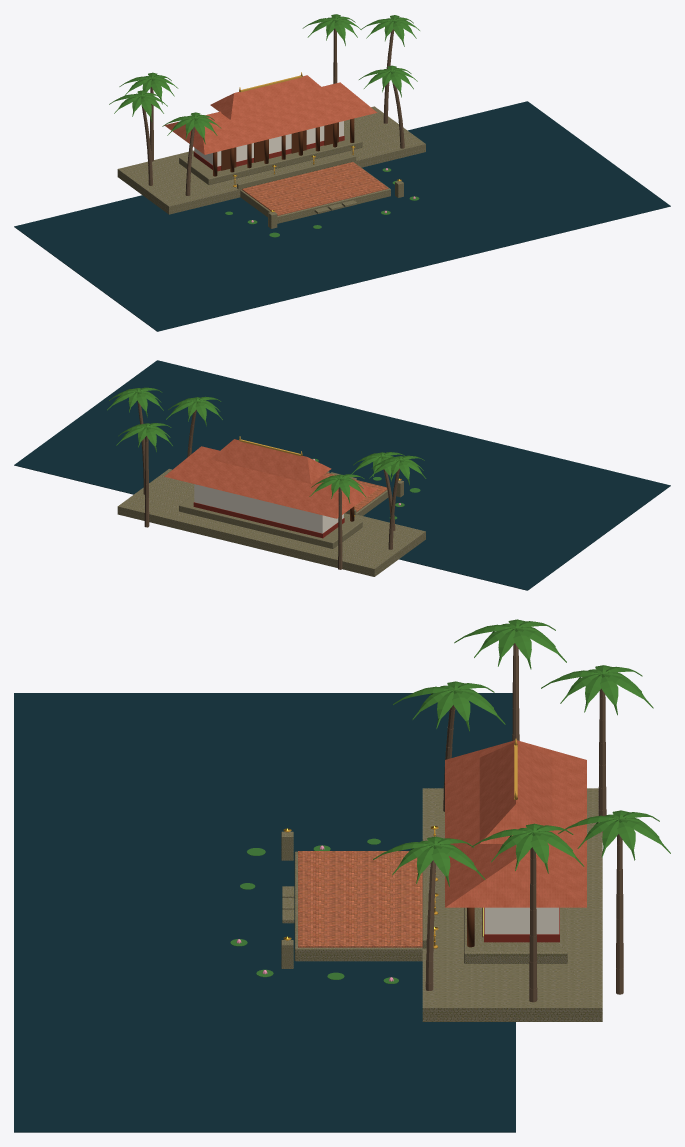
The model's file is courtyard.glb.
The picture shows the model from 3 angles, top to bottom: view 1: azimuth 30°, elevation 25°; view 2: azimuth 150°, elevation 25°; view 3: azimuth 270°, elevation 25°; orthographic projection. The views are drawn at different scales.
Parts seen in each view (by area): view 1: pond, terrace, roof1, floor, roof2, plinth, floor_rim, hall, palm1, palm3, palm0, palm2 (+3 smaller); view 2: pond, terrace, roof1, hall, roof2, plinth, palm5, palm4, palm1, palm3, palm2, hall_band (+2 smaller); view 3: pond, terrace, roof1, floor, roof2, palm5, palm3, palm2, palm4, plinth, palm1, floor_rim (+2 smaller).
Part boxes in pixels (box(x1,y1,x2,y2)): pond: box(14, 101, 670, 331); terrace: box(117, 106, 425, 214); roof1: box(164, 82, 377, 154); floor: box(242, 162, 388, 215); roof2: box(210, 75, 331, 119); plinth: box(179, 128, 362, 184); floor_rim: box(240, 162, 390, 223); hall: box(194, 121, 343, 166); palm1: box(109, 90, 167, 185); palm3: box(361, 15, 419, 123); palm0: box(162, 112, 221, 195); palm2: box(359, 65, 417, 148); pond: box(14, 360, 670, 590); terrace: box(117, 469, 425, 576); roof1: box(164, 446, 376, 518); hall: box(194, 484, 343, 533); roof2: box(210, 439, 331, 483); plinth: box(179, 495, 362, 548); palm5: box(116, 423, 172, 527); palm4: box(309, 474, 366, 569); palm1: box(369, 455, 426, 549); palm3: box(107, 387, 163, 494); palm2: box(166, 396, 222, 457); hall_band: box(193, 502, 344, 538); pond: box(14, 693, 515, 1132); terrace: box(422, 788, 602, 1021); roof1: box(445, 740, 586, 907); floor: box(298, 851, 422, 947); roof2: box(479, 742, 552, 843); palm5: box(558, 810, 670, 994); palm3: box(471, 823, 584, 1002); palm2: box(373, 836, 485, 990); palm4: box(541, 665, 653, 832); plinth: box(464, 907, 567, 963); palm1: box(454, 619, 566, 740); floor_rim: box(294, 851, 422, 961).
Size of the model in its own units: 60 by 12.16 by 37.96.
Materials: 16 (3 with a texture image).
